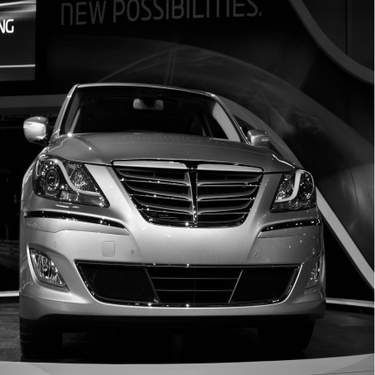car: (13, 77, 334, 360)
